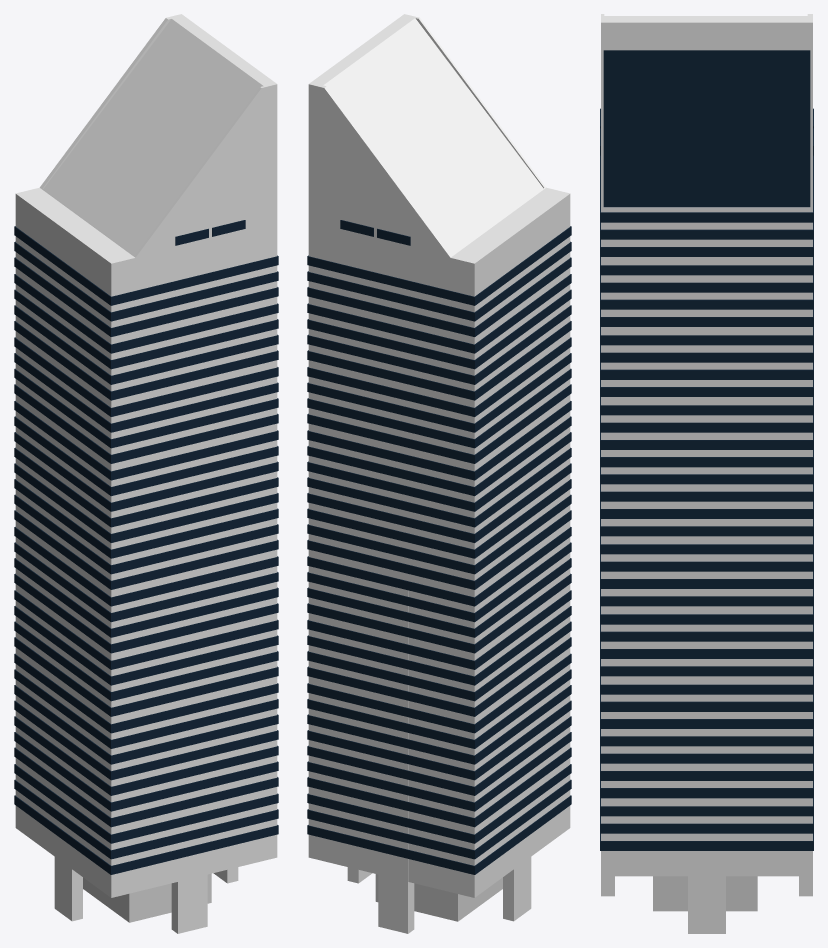
The picture shows the model from 3 angles, left to right: view 1: azimuth 30°, elevation 25°; view 2: azimuth 150°, elevation 25°; view 3: azimuth 270°, elevation 25°; orthographic projection. The views are drawn at different scales.
Parts seen in each view (by area): view 1: Object_3, Object_4, Object_2; view 2: Object_3, Object_4, Object_2; view 3: Object_4, Object_3, Object_2.
Boxes of the visible parts, x1=… form: Object_3: x1=15, y1=14, x2=277, y2=933; Object_4: x1=14, y1=220, x2=278, y2=874; Object_2: x1=83, y1=873, x2=211, y2=922; Object_3: x1=308, y1=14, x2=570, y2=933; Object_4: x1=307, y1=220, x2=571, y2=874; Object_2: x1=375, y1=874, x2=502, y2=921; Object_4: x1=600, y1=50, x2=813, y2=850; Object_3: x1=601, y1=14, x2=812, y2=933; Object_2: x1=653, y1=876, x2=757, y2=911.
Bounding box in the file's own units: 20.2 × 95 × 20.2.
